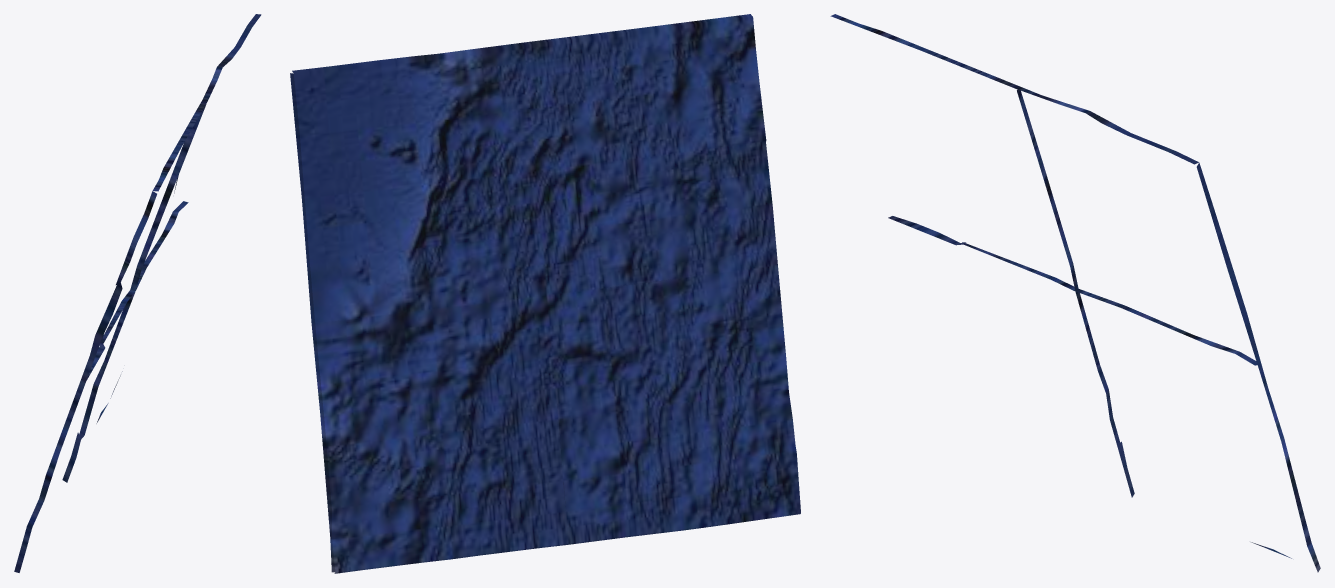
3 views of the same model, side by side, from view 1: azimuth 30°, elevation 25°; view 2: azimuth 150°, elevation 25°; view 3: azimuth 270°, elevation 25° (orthographic). The views are drawn at different scales.
Bounding box in the file's own units: 280517 × 300389 × 288248.
1 material, 1 textured.
